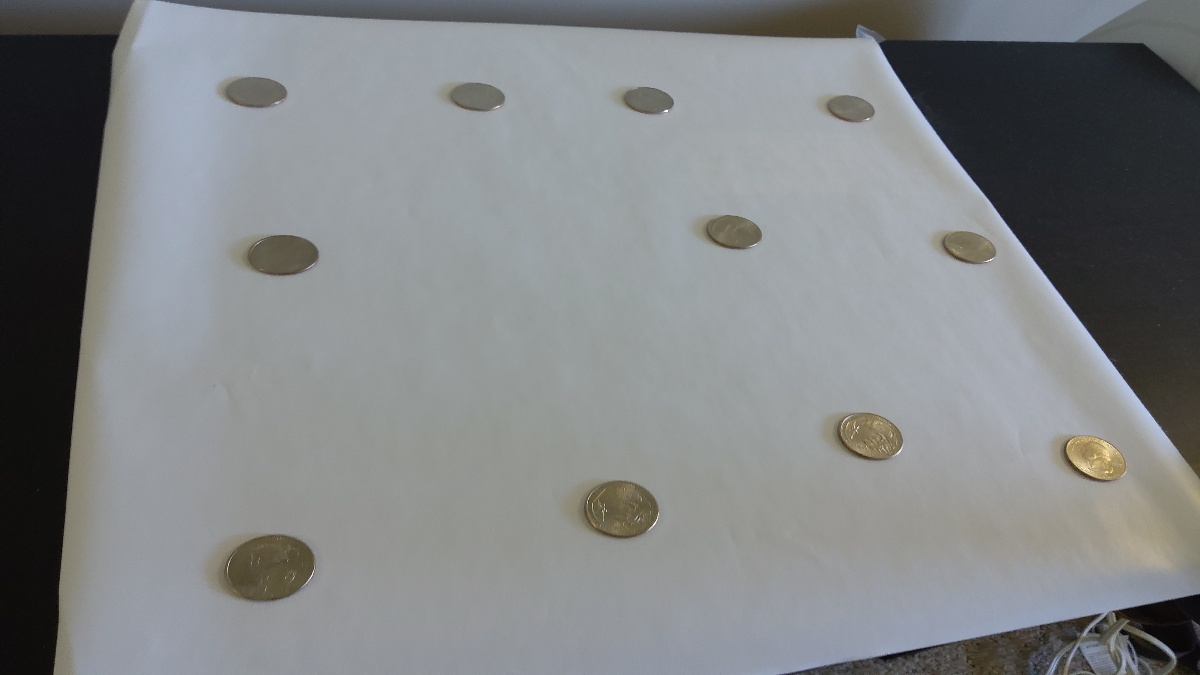coin_quarter: (216, 526, 321, 607), (577, 472, 664, 544), (829, 402, 912, 471), (1060, 428, 1132, 490), (241, 229, 328, 279), (217, 70, 296, 115), (933, 225, 1004, 271), (699, 209, 767, 255), (615, 78, 686, 119), (444, 74, 513, 115), (822, 89, 884, 131)
